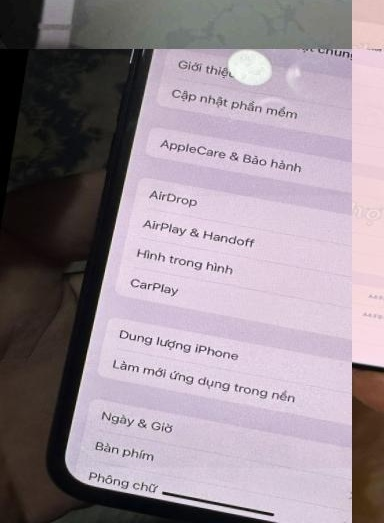screen_defect: (222, 49, 278, 91)
